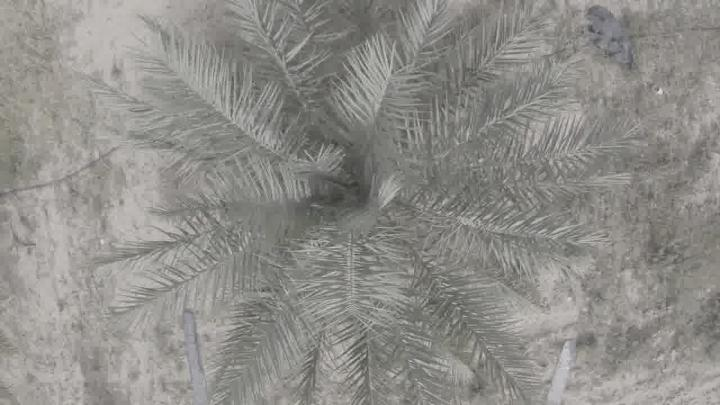Date-Palm-Crown: (218, 62, 488, 316)
